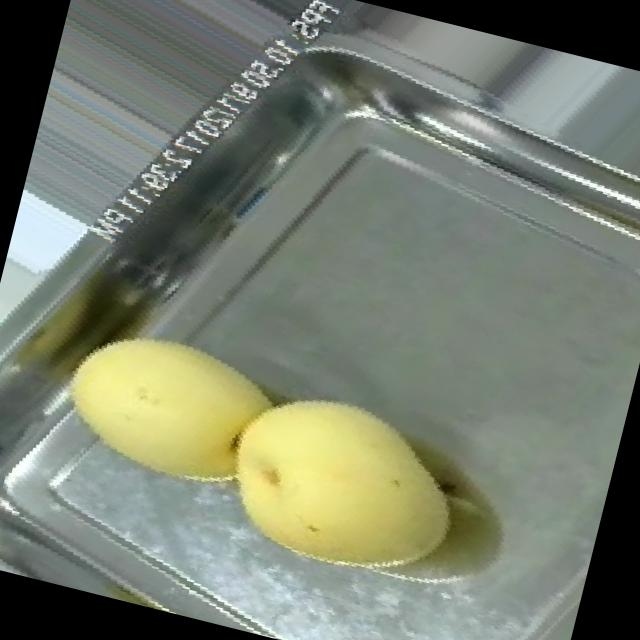Fruit: (177, 342, 507, 634), (22, 281, 310, 538)
